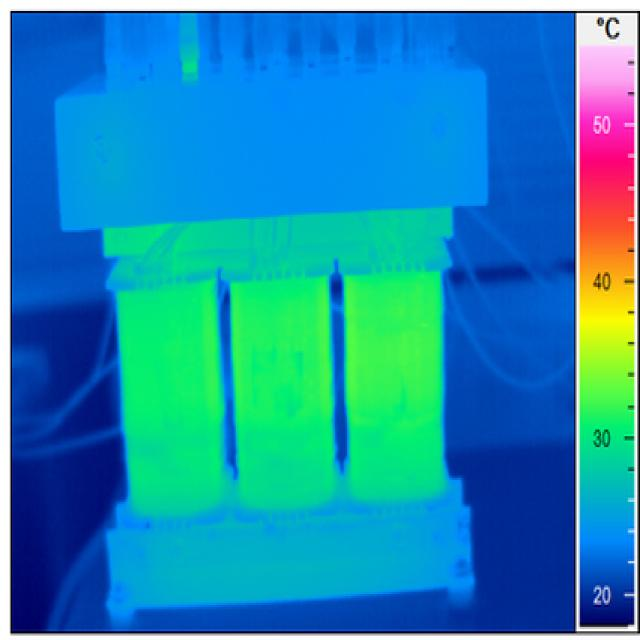Transformer: (56, 15, 530, 627)
